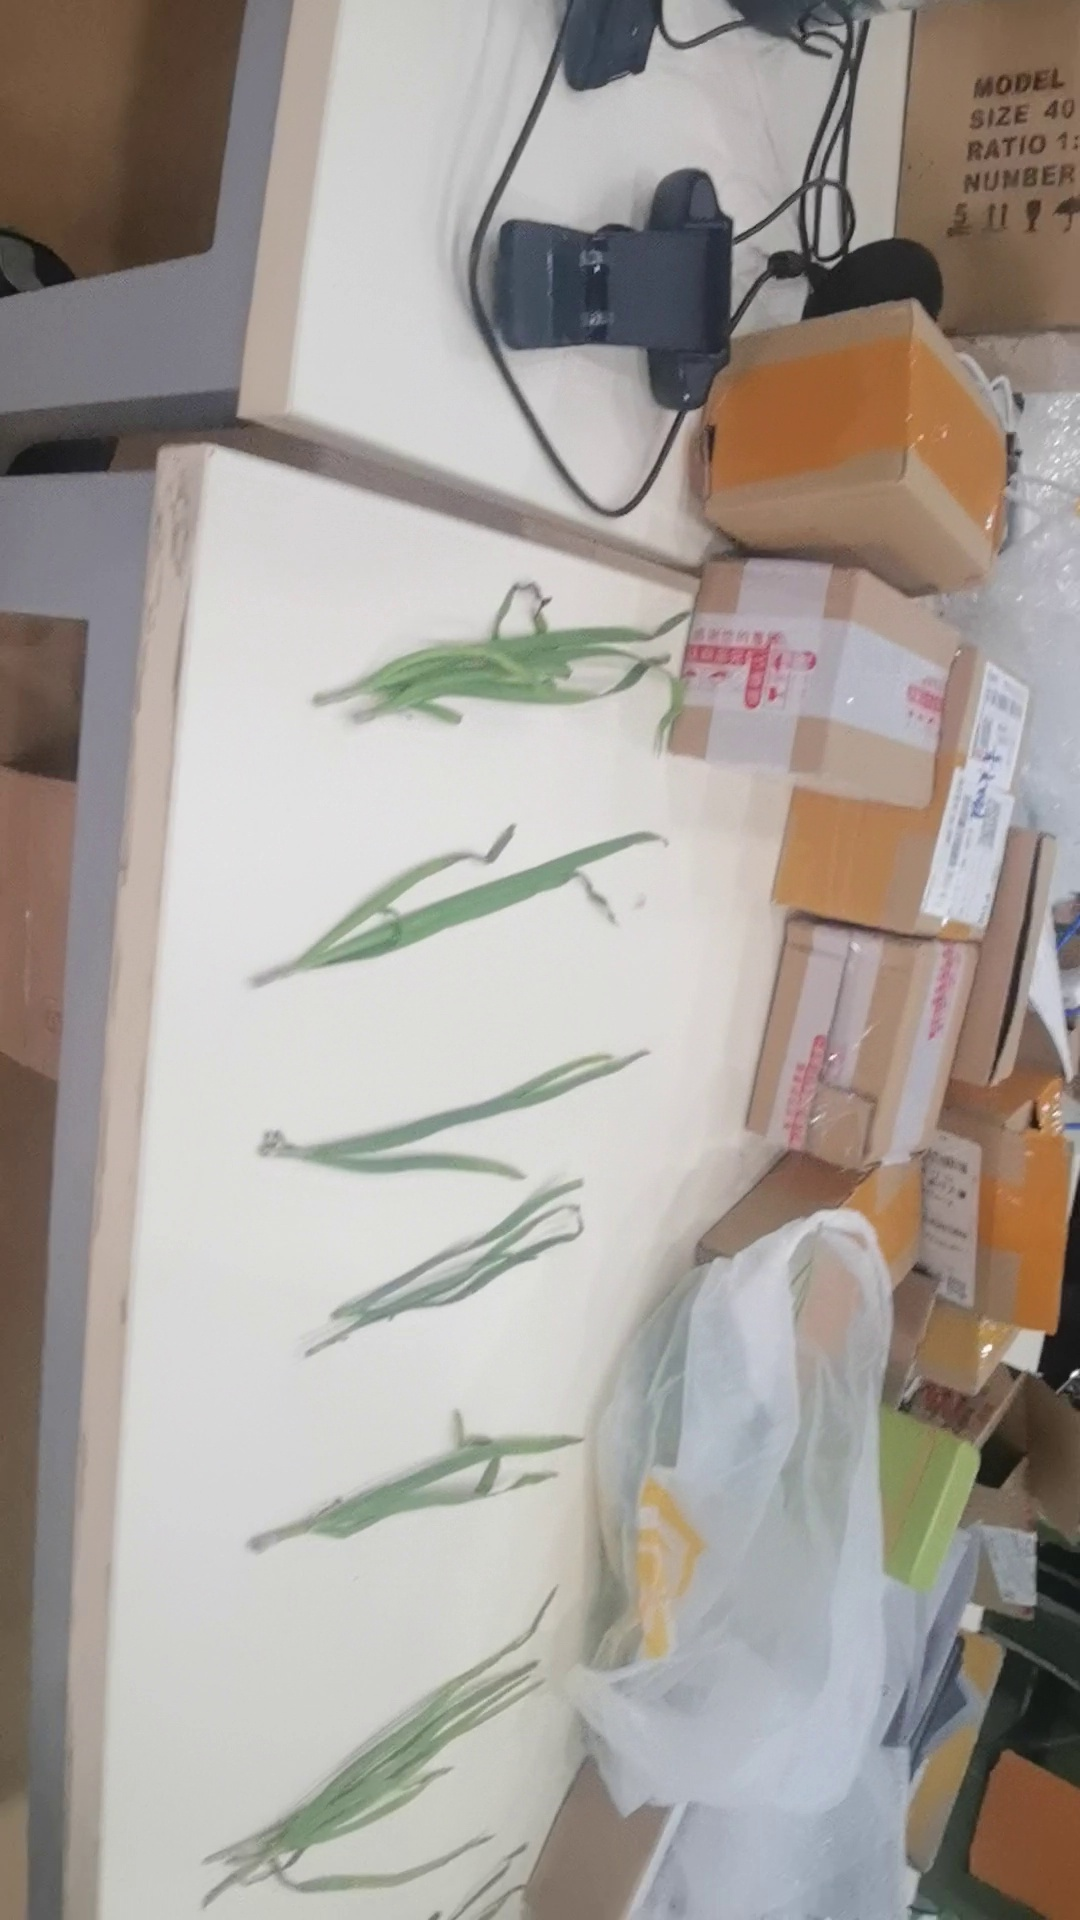chives: (175, 1592, 564, 1890), (247, 819, 673, 994), (249, 1036, 692, 1197), (310, 576, 709, 752), (298, 1197, 663, 1358), (232, 1422, 612, 1564)
